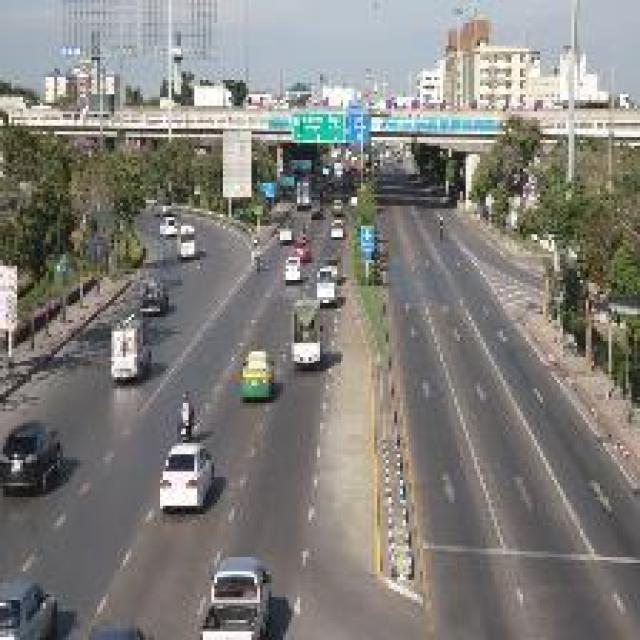other: (258, 203, 342, 316)
